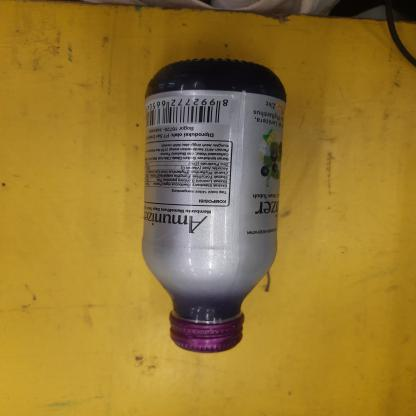keyboard: (140, 56, 293, 357)
